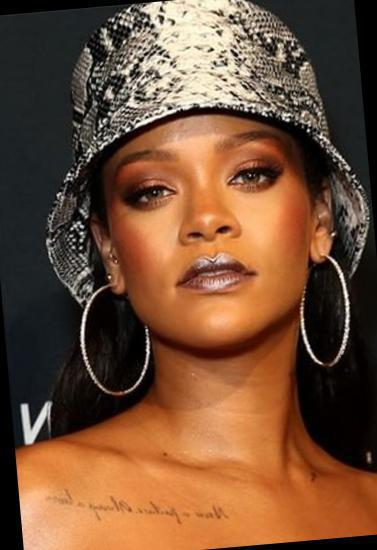Sober: (117, 135, 311, 323)
